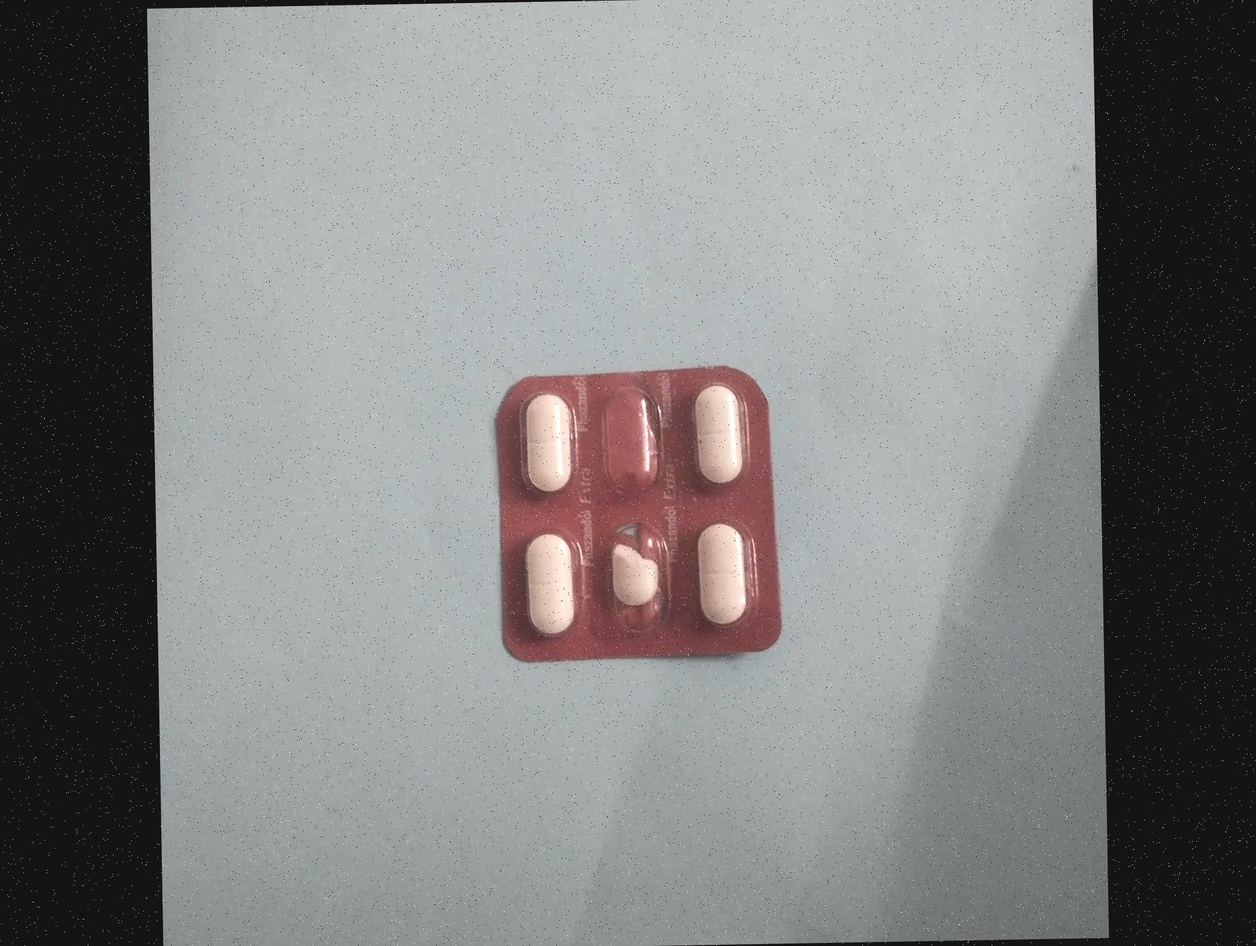Empty: (600, 386, 662, 502)
Full: (691, 515, 752, 634), (516, 389, 581, 500), (689, 378, 748, 490), (522, 533, 580, 645)
Partial: (611, 512, 676, 634)
